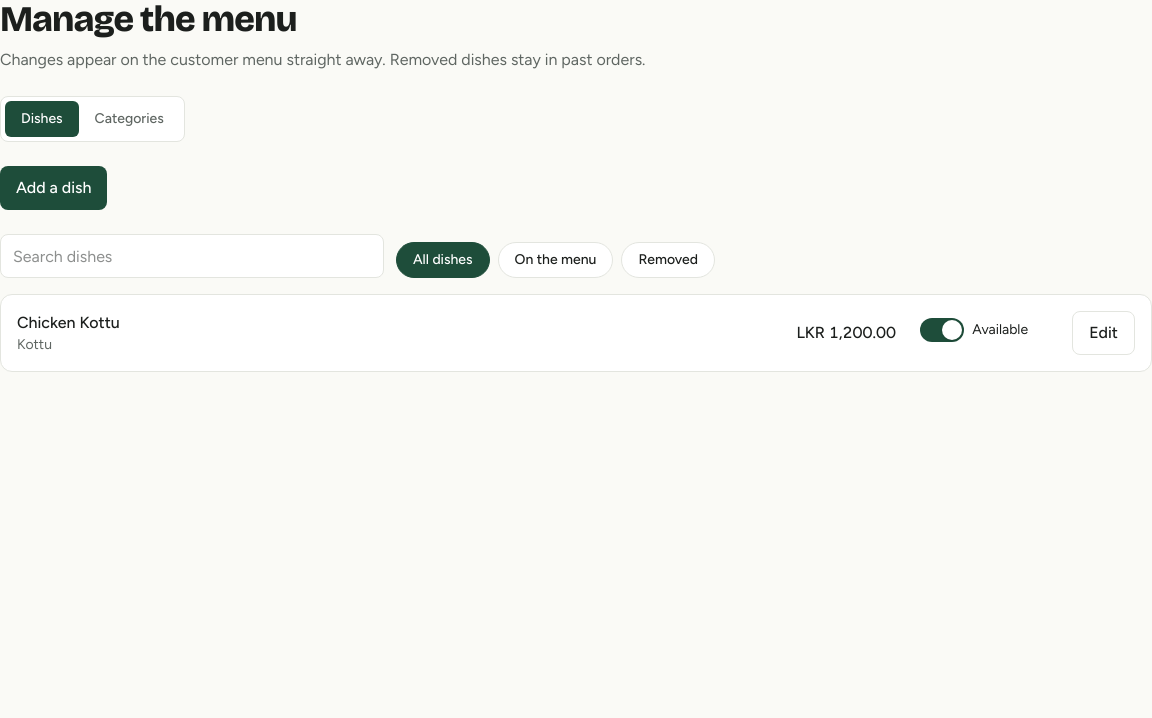
ManageMenuPage: dishes › explains when the chosen category is hidden
The image size is (1152, 718).
Click the button "Add a dish".
click(54, 188)  # box [0,166,107,210]
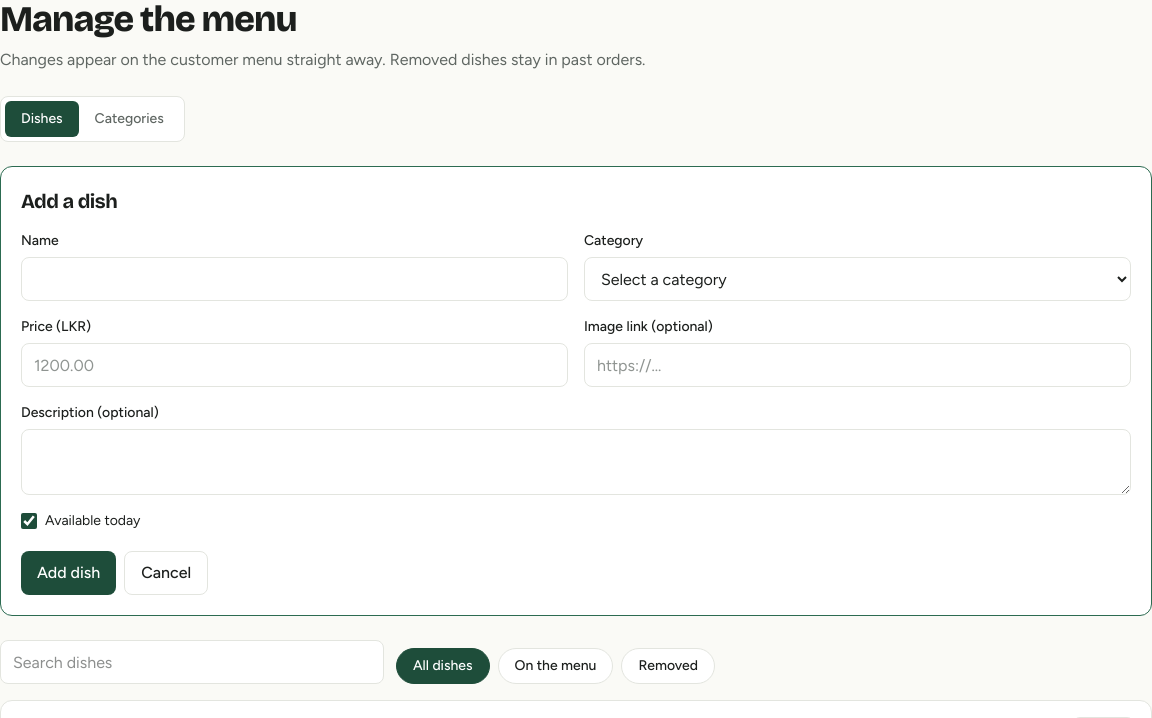
Type "Pumpkin Curry" into the field labelled "Name".
click(294, 279); type("Pumpkin Curry")  # box [21,257,568,301]
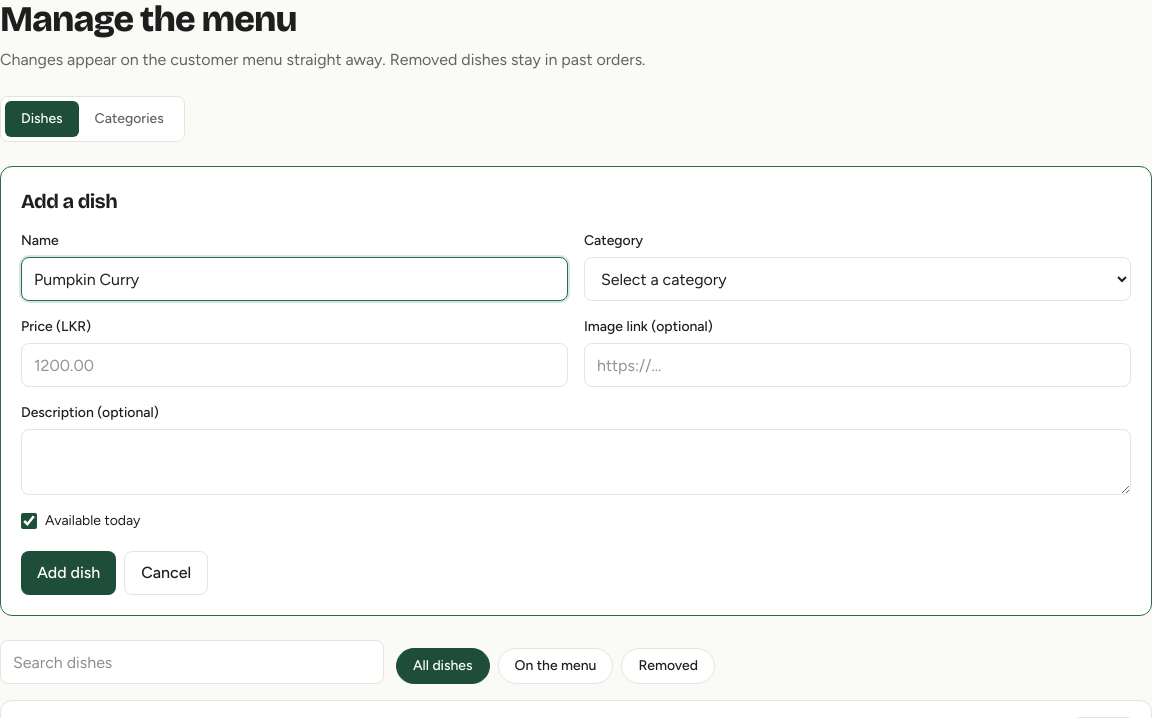
Select "Seasonal (hidden)" in the dropdown labelled "Category" at (858, 279), box [584,257,1131,301]
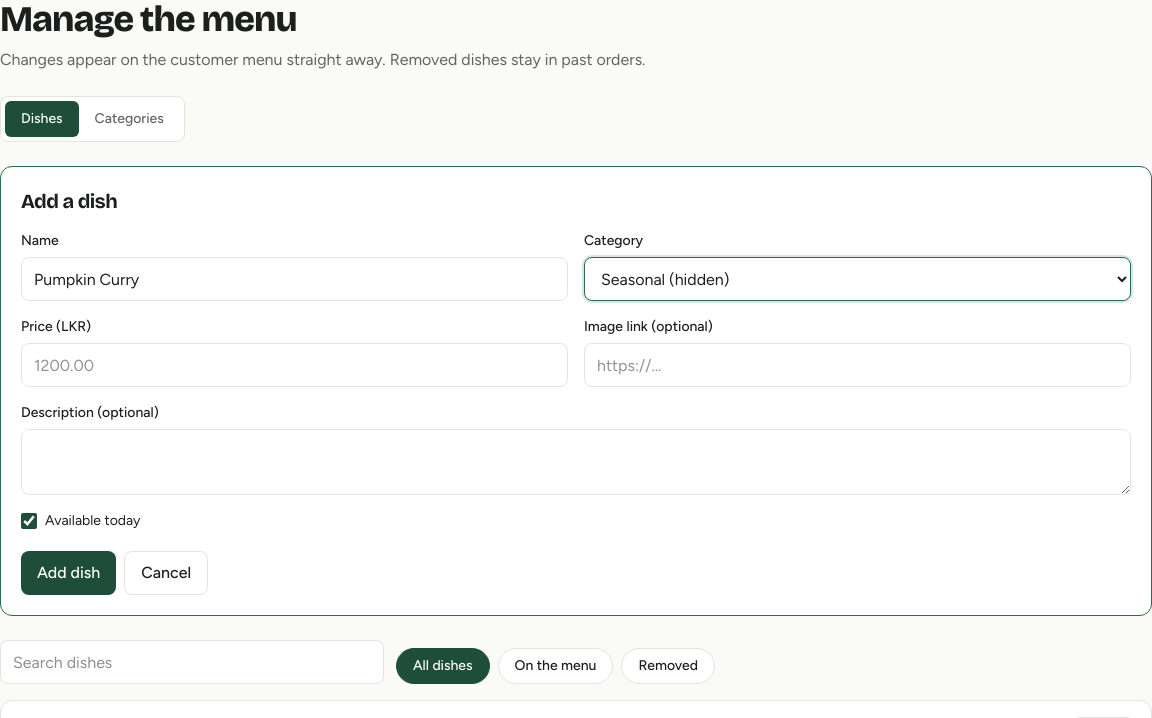
Type "700" into the field labelled "Price (LKR)".
click(294, 365); type("700")  # box [21,343,568,387]
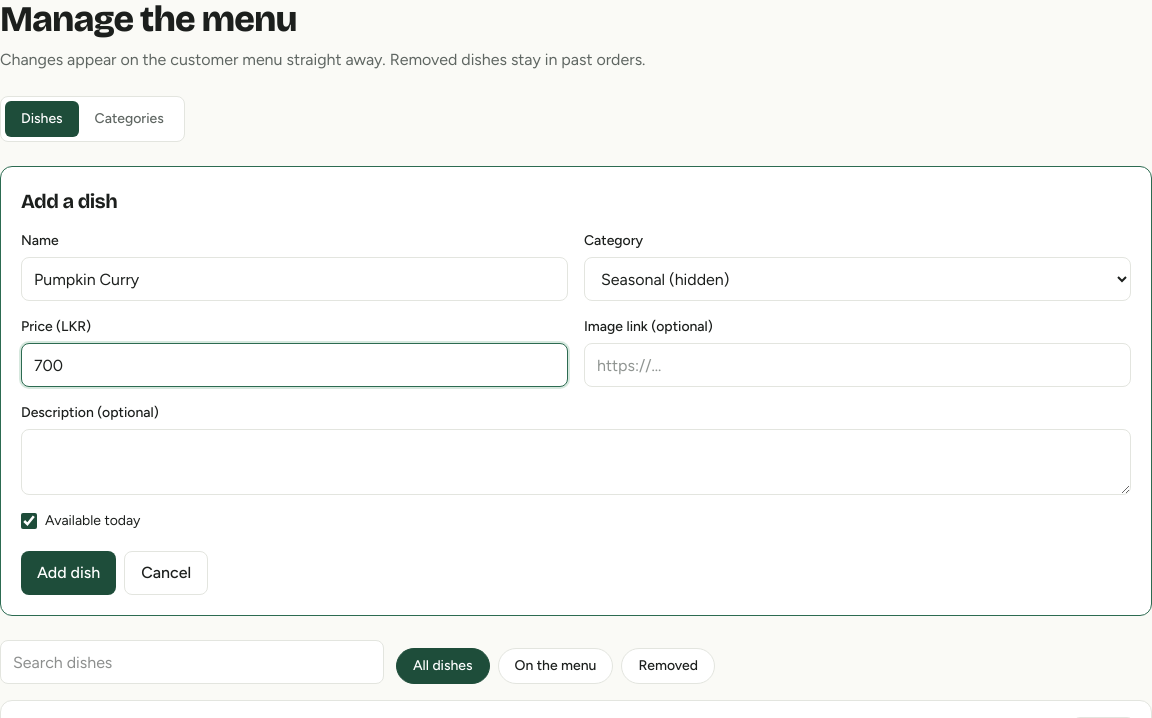
Click the button "Add dish".
click(69, 573)  # box [21,551,116,595]
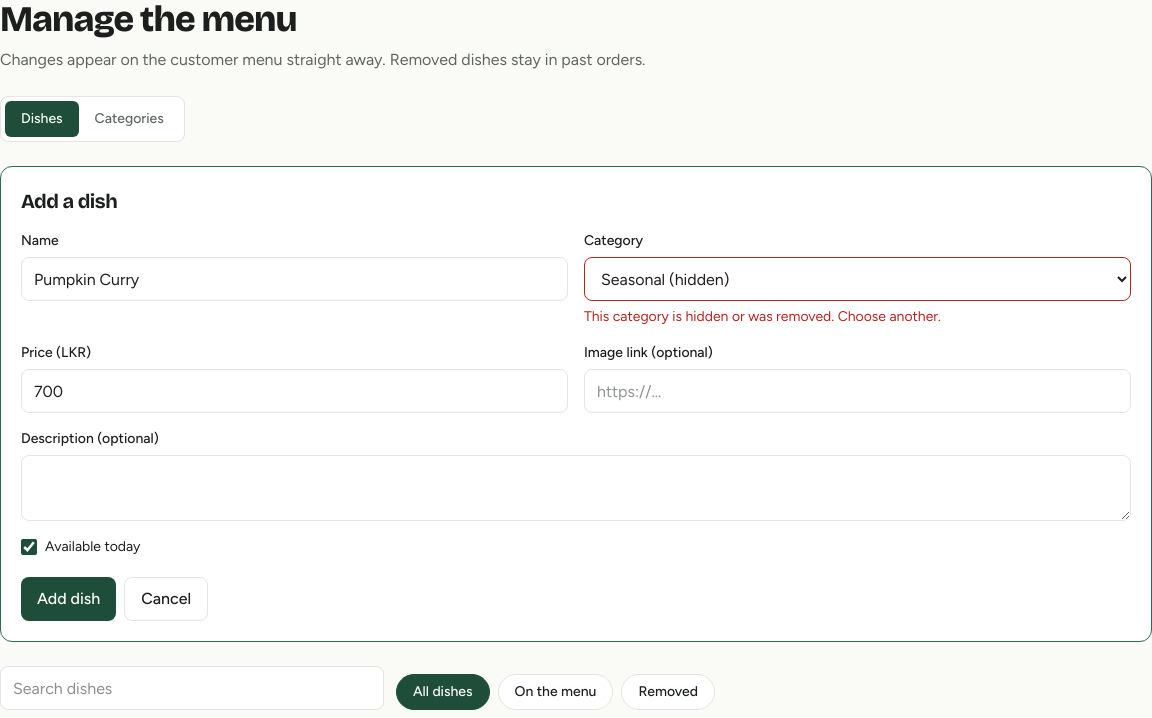
Now the text "This category is hidden or was removed. Choose another." is shown, box [584,308,941,325]
